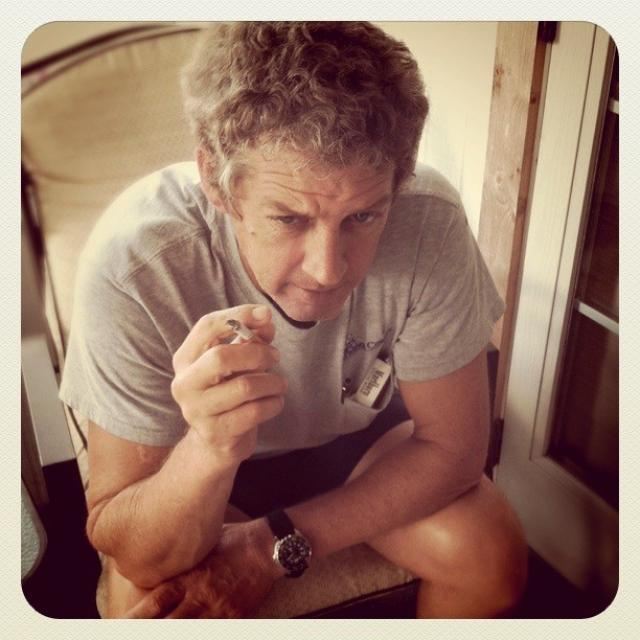rokok: (225, 316, 262, 342)
